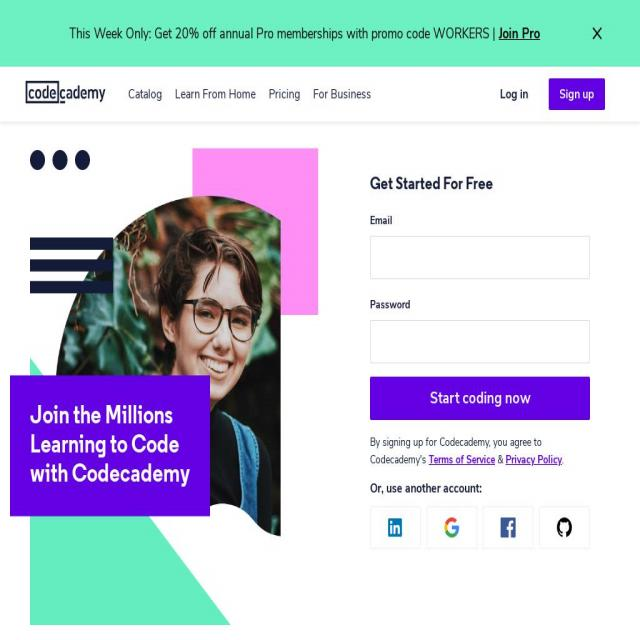login-option: (494, 80, 530, 112)
navigation-links: (122, 75, 378, 120)
sign-up-form: (368, 158, 600, 558)
sign-up-option: (546, 77, 609, 113)
